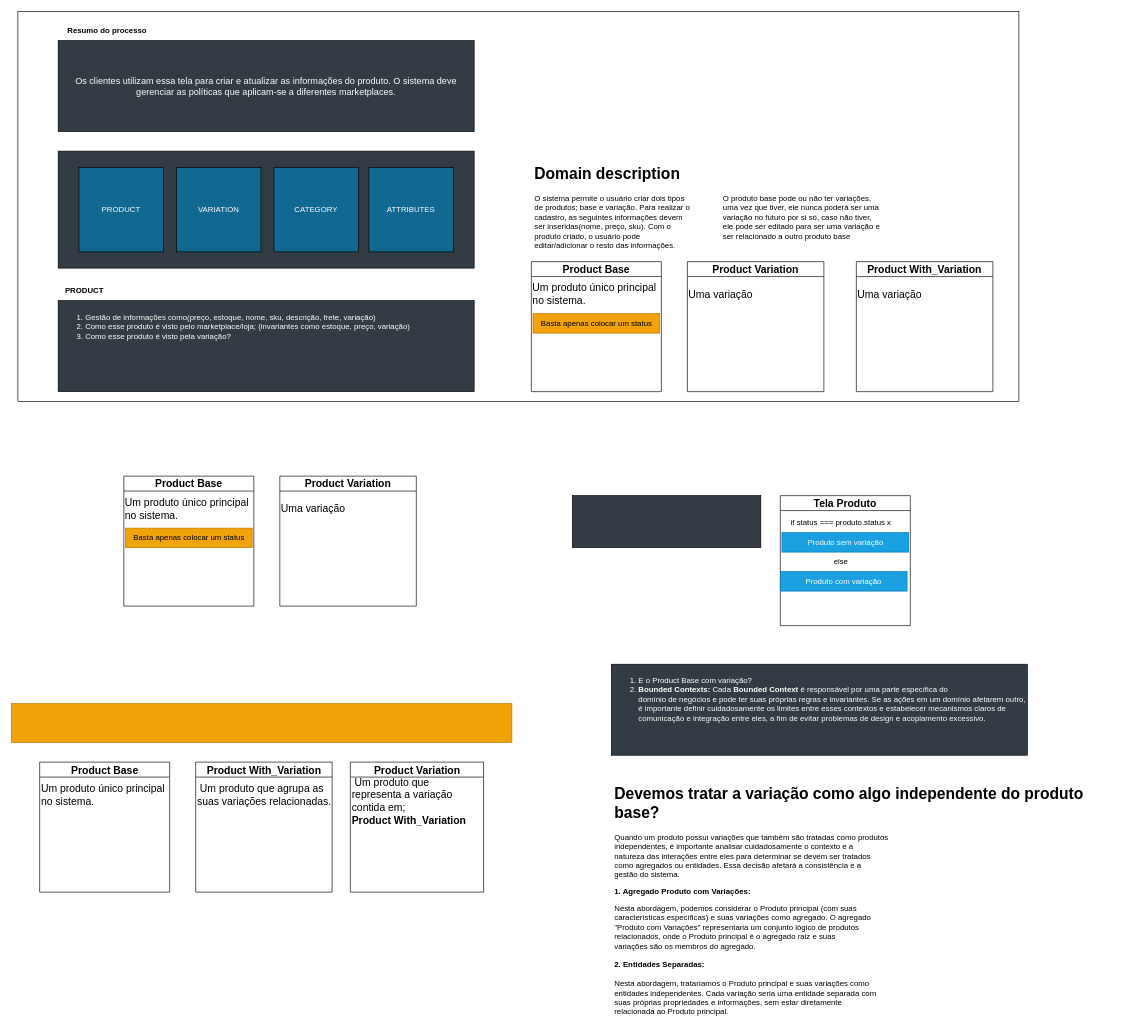
The diagram is 1143 pixels wide and 1032 high, and some of its shapes have lost their labels. Here are the shapes that lost their labels. From the top down, the centre of each, then its label:
(x=666, y=521): Product Base com variação Product Base sem variação
(x=261, y=723): DEFINITIONS
